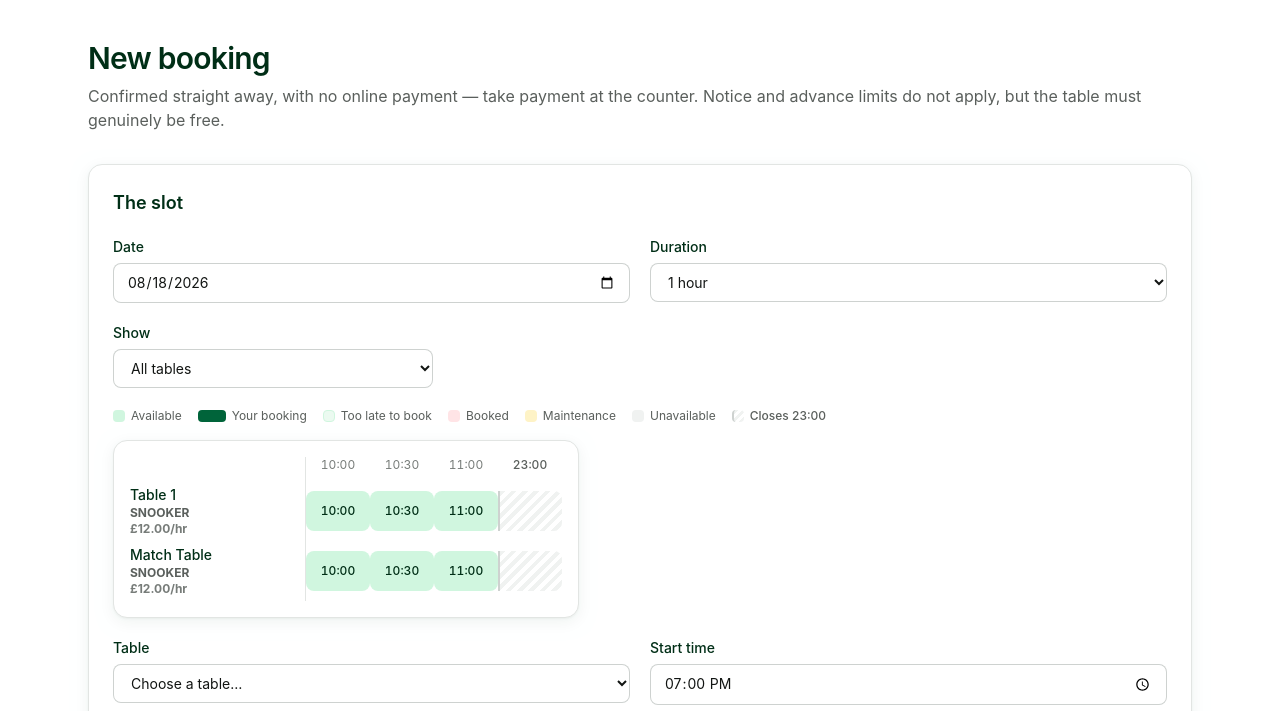
Test: AdminTelephoneBookingPage › drops back to the shortest length when a new start is picked
The width and height of the screenshot is (1280, 711).
Click the button named "10:00 — available".
click(338, 511)  # box [306,491,370,531]
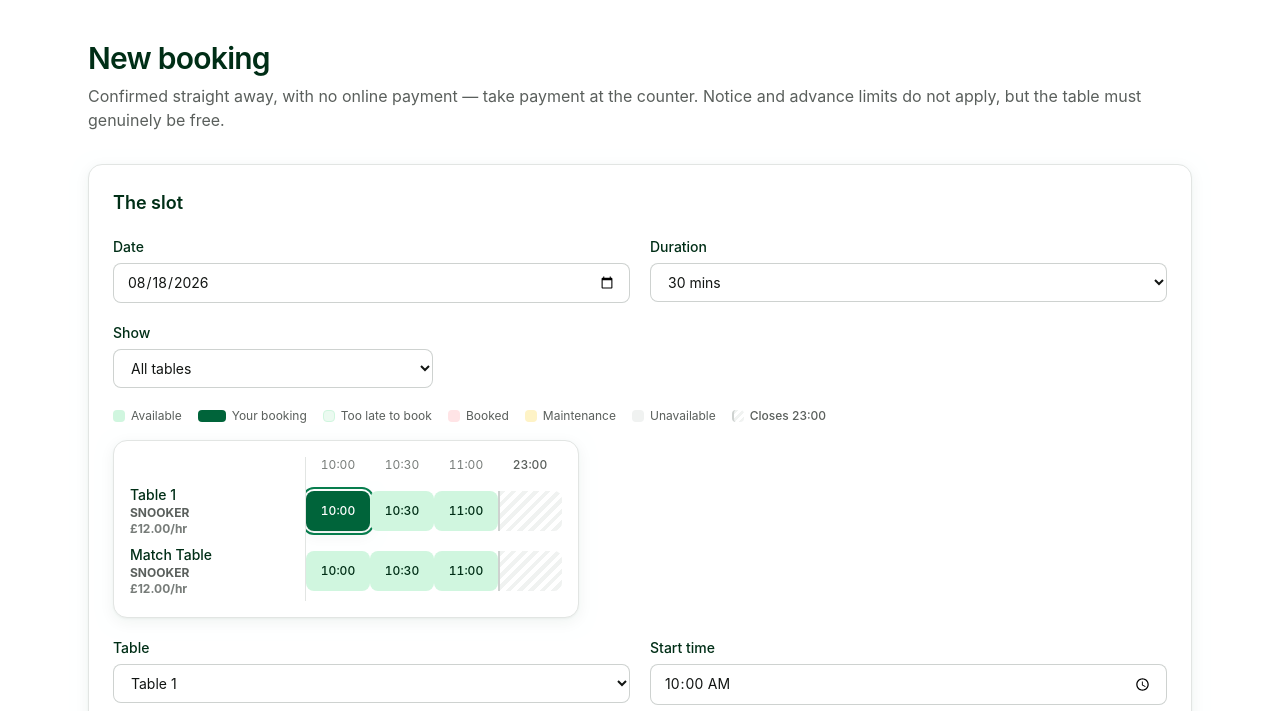
Click the 1st button "11:00".
click(466, 511)  # box [434,491,498,531]
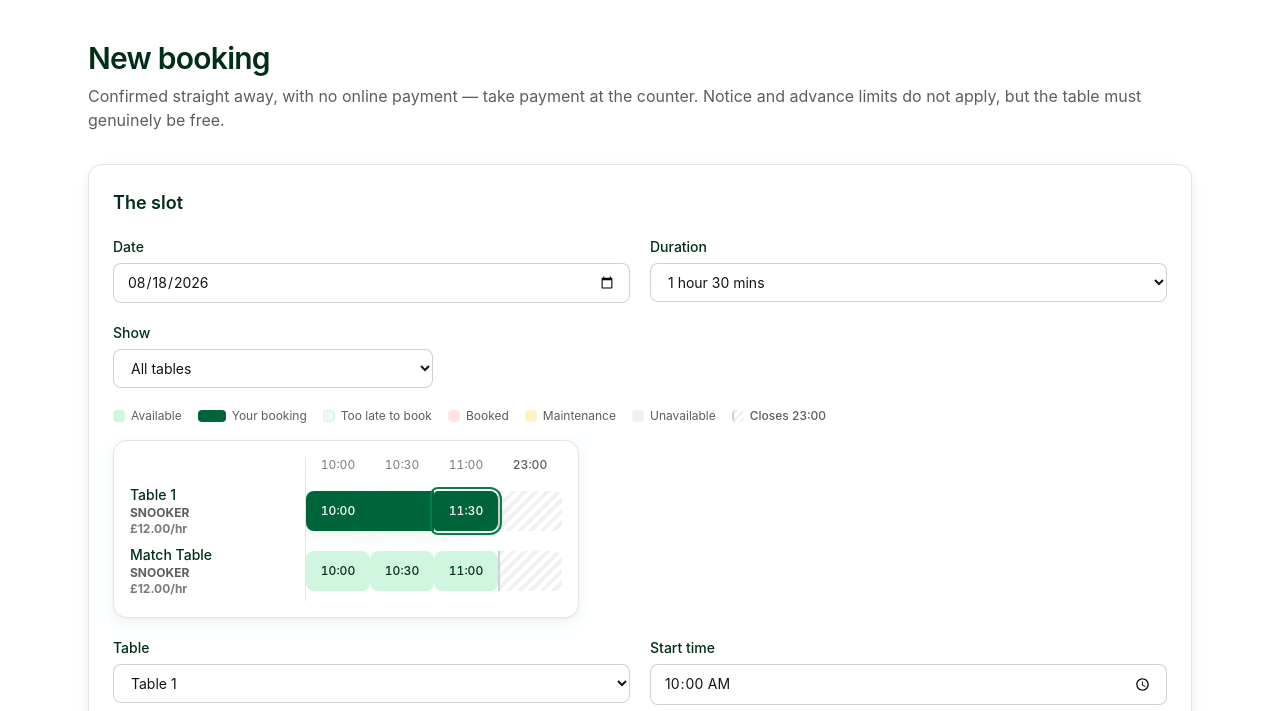
Result: the dropdown labelled "Duration" shows "1 hour 30 mins" at [650,263,1167,302]
Click the button "10:30".
click(402, 571)  # box [370,551,434,591]
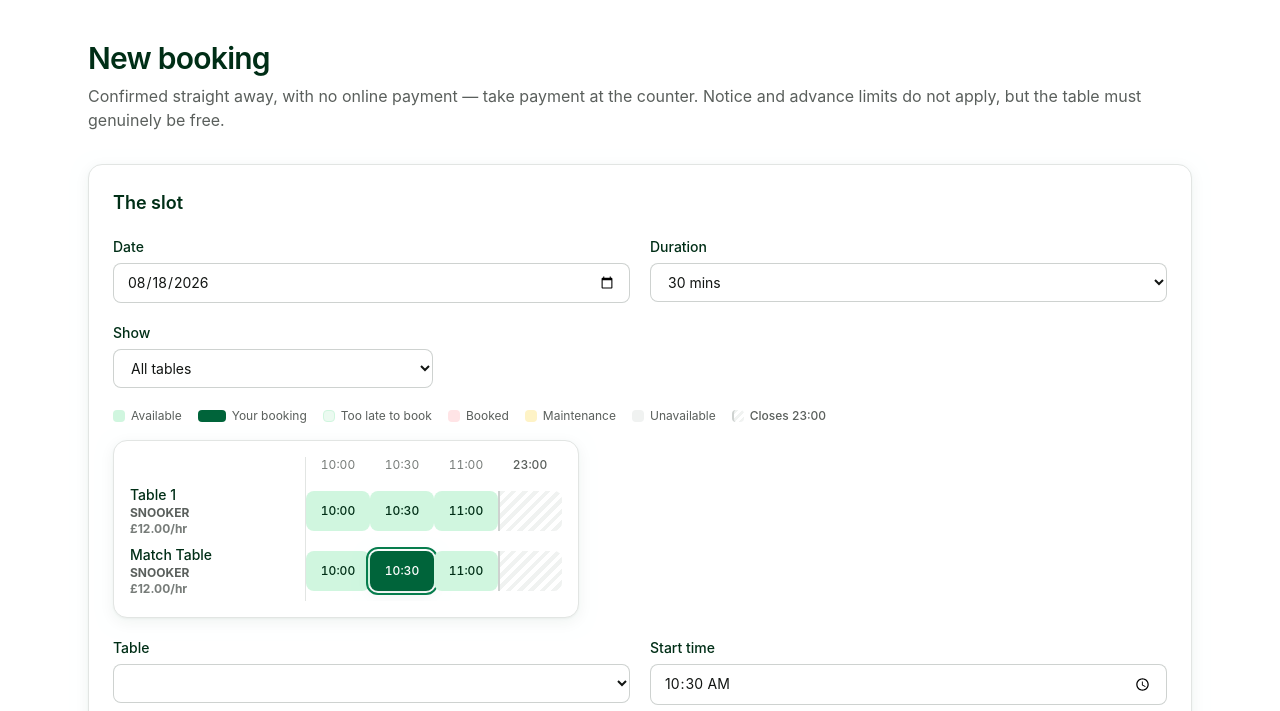
Result: the dropdown labelled "Duration" shows "30 mins" at [650,263,1167,302]
